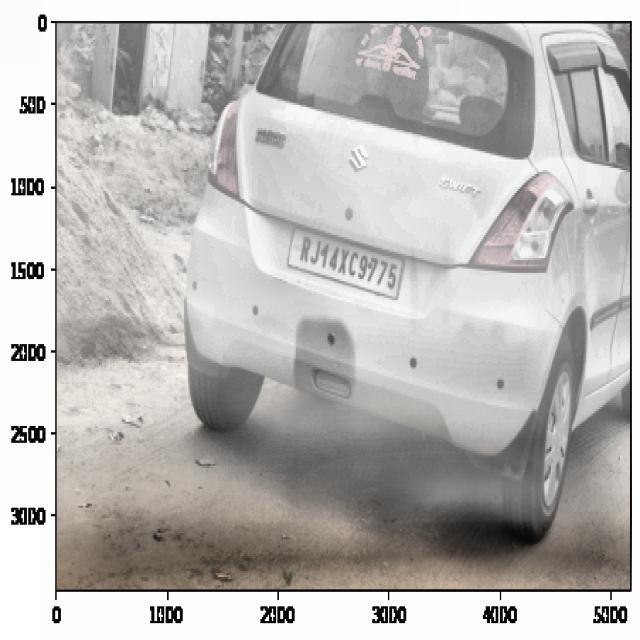license_plate: (296, 231, 401, 298)
